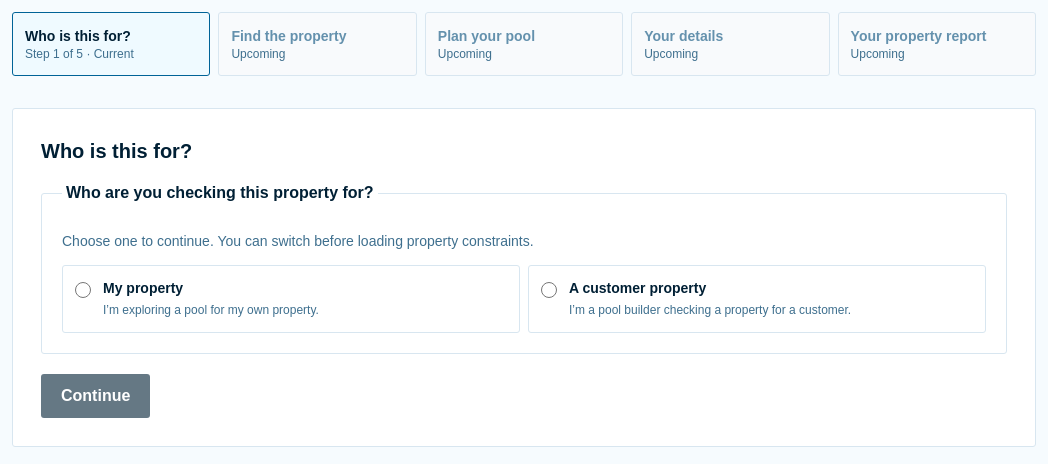
Test: PropertyCheckJourney › shows a selected-address pending state while official property data loads
Click the radio button labelled "My property". click: click(83, 290)
box: [75,282,91,298]
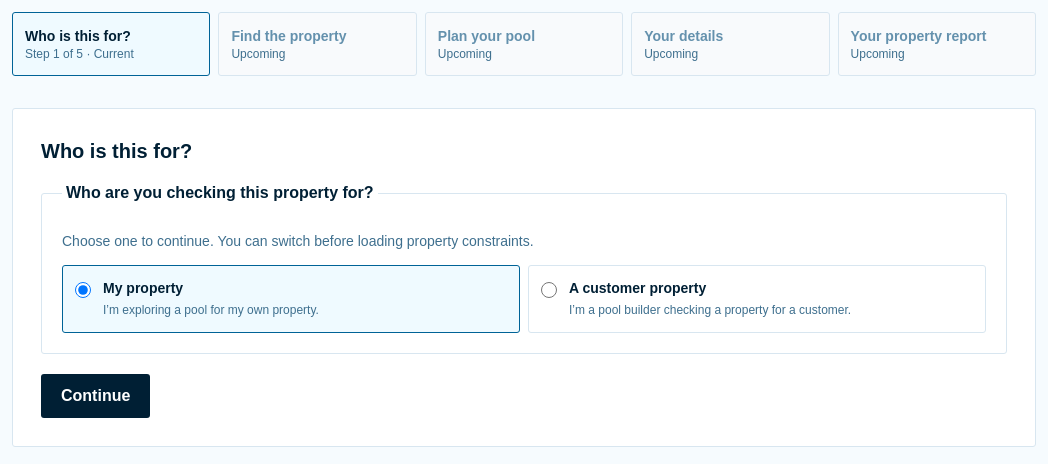
Click the button "Continue". click: click(96, 396)
box: [41,374,150,418]
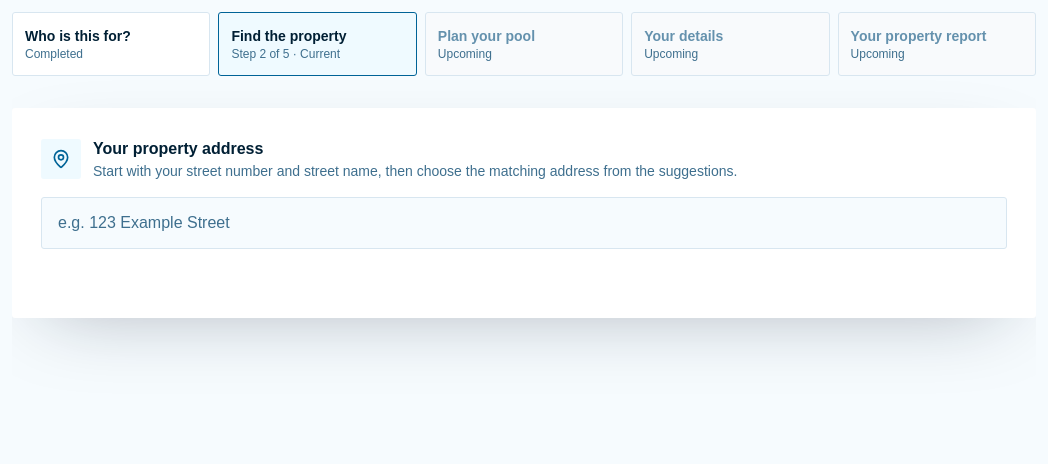
Type "Bahari Drive, Ranui, Auckland" into the field named "Auckland property address". click: (524, 223)
box: [41,197,1007,249]
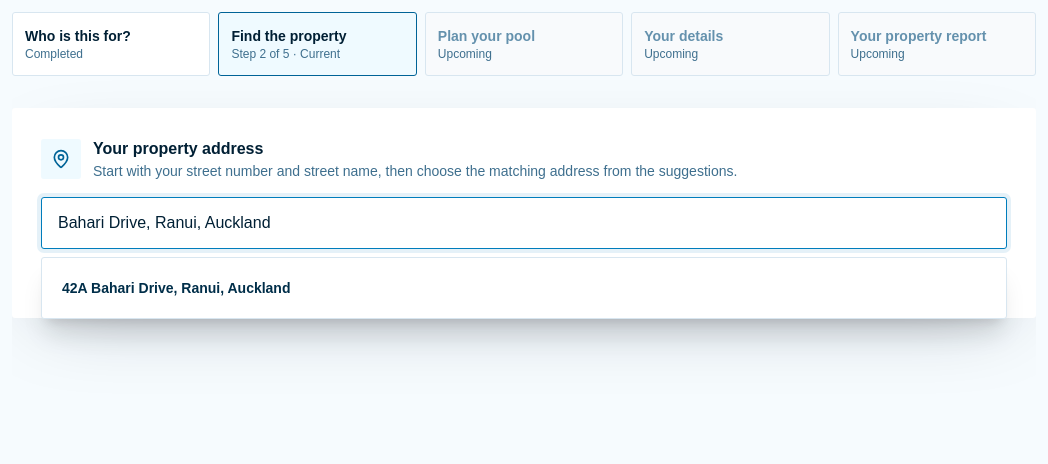
Result: the option "42A Bahari Drive, Ranui, Auckland" is shown at [50,266,998,310]
Press Enter
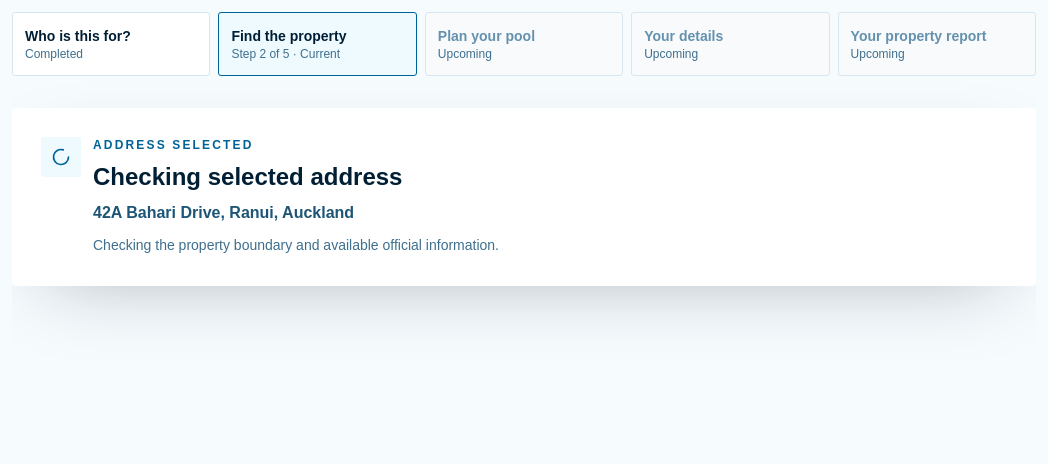
Result: the text "42A Bahari Drive, Ranui, Auckland" is shown at [93,204,354,221]
Result: the heading "Checking selected address" is shown at [93,163,402,190]
